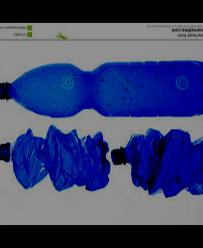Plastic: (0, 123, 111, 197)
